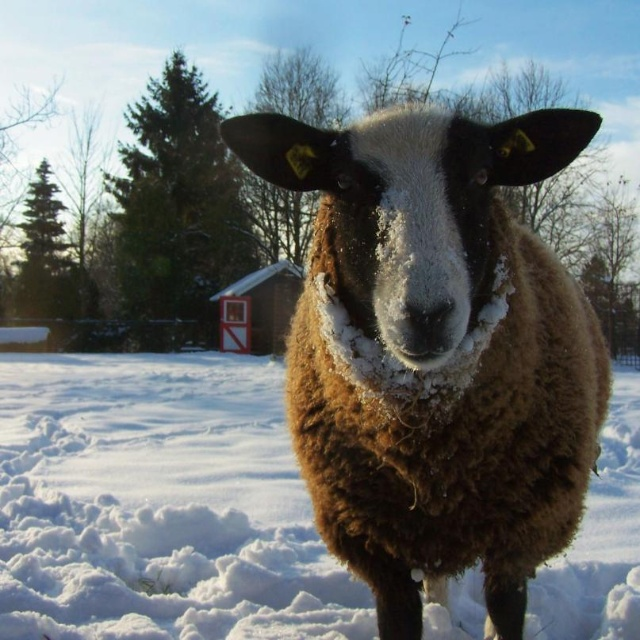Sheep: (218, 95, 611, 639)
